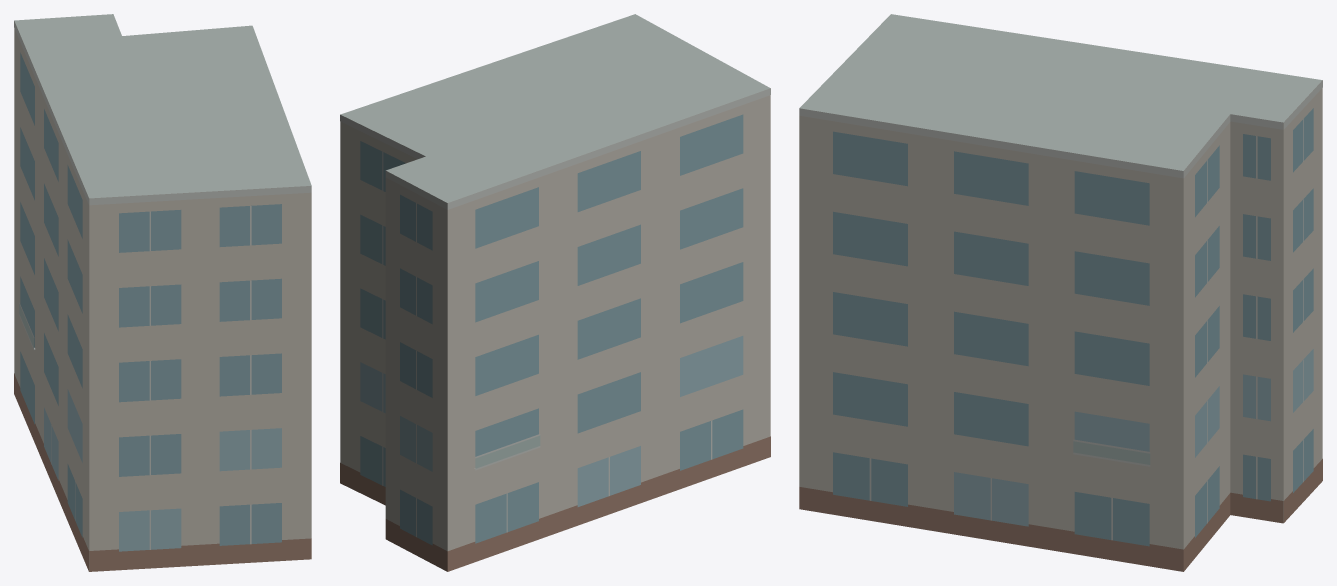
The model's file is survey-upis-32880548.glb.
3 renders of one model, left to right at view 1: azimuth 30°, elevation 25°; view 2: azimuth 150°, elevation 25°; view 3: azimuth 270°, elevation 25°, orthographic. The views are drawn at different scales.
Visible parts, largest first — view 1: survey-upis-32880548.tmp; view 2: survey-upis-32880548.tmp; view 3: survey-upis-32880548.tmp.
Part boxes in pixels (bbox=[...]): survey-upis-32880548.tmp: bbox=[14, 14, 311, 571]; survey-upis-32880548.tmp: bbox=[340, 14, 770, 571]; survey-upis-32880548.tmp: bbox=[799, 14, 1322, 571].
Bounding box in the file's own units: 11.1 × 13.2 × 15.63.
